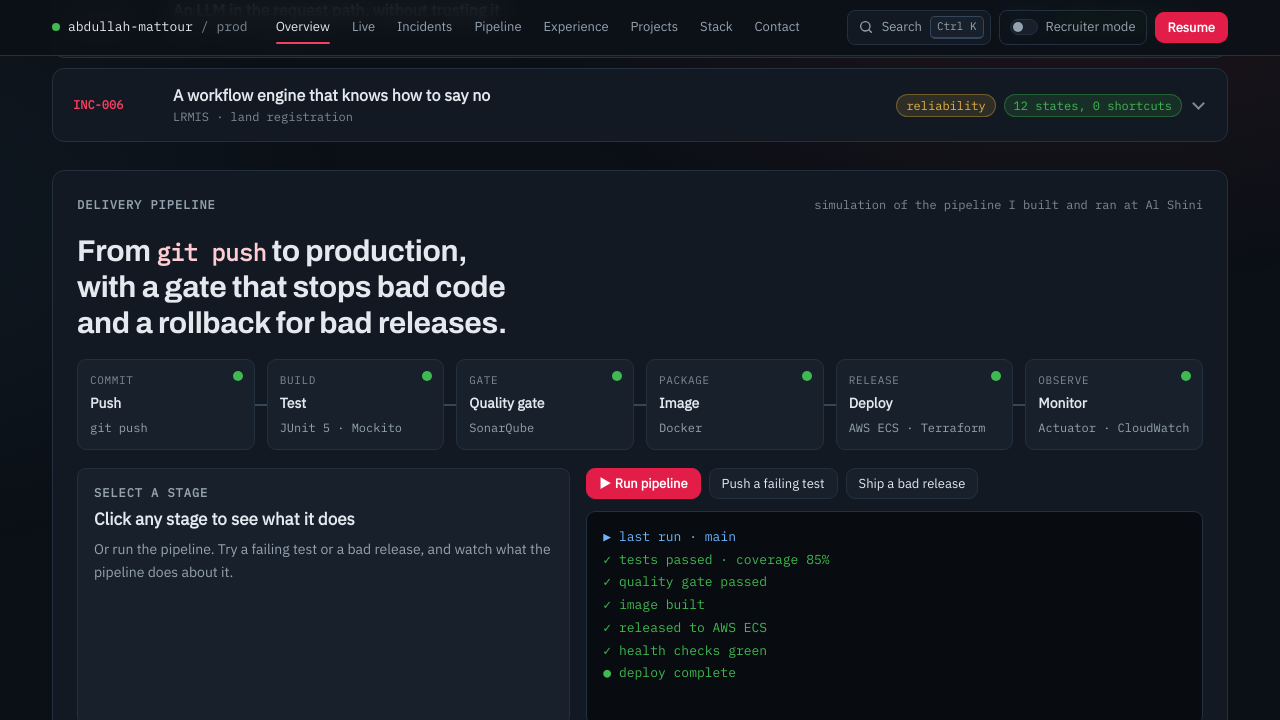
Test: portfolio app › explains a pipeline stage when it is clicked
(page scrolled)
Click the button "gate Quality gate SonarQube": coordinates (545, 404) [456,359,634,450]
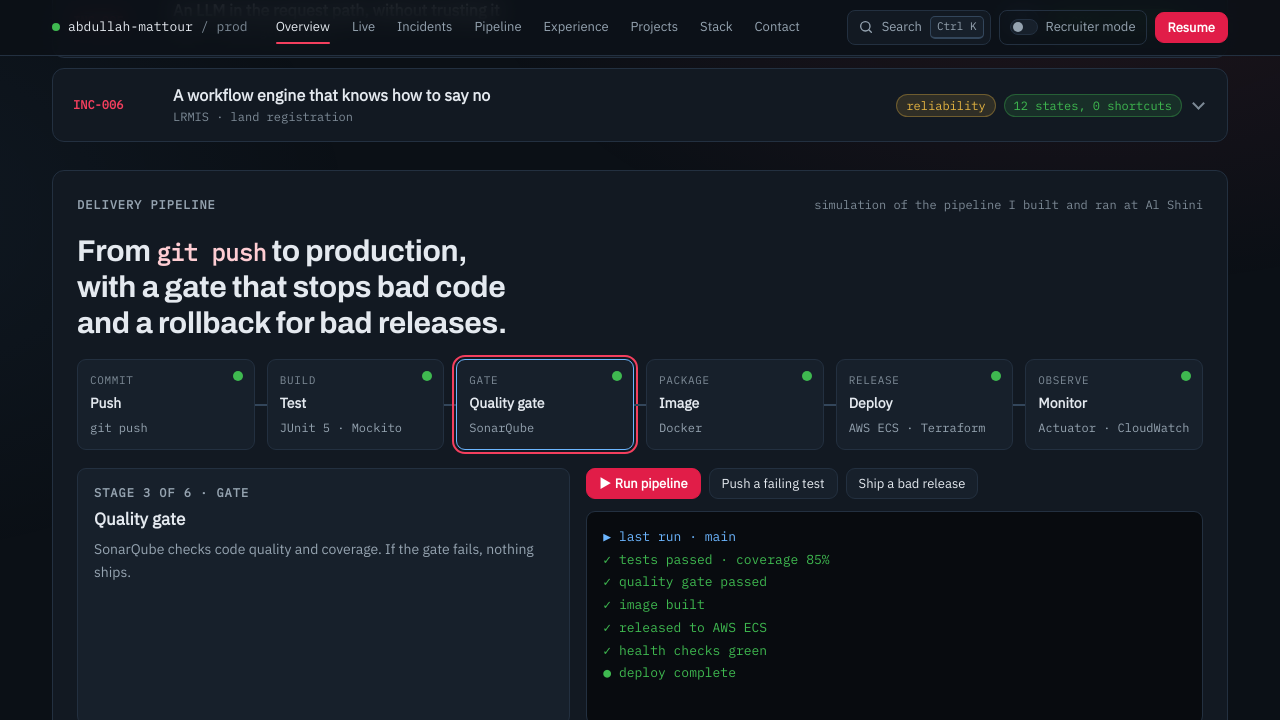
Expected: the text "If the gate fails, nothing ships" is shown, [94,540,534,581]
